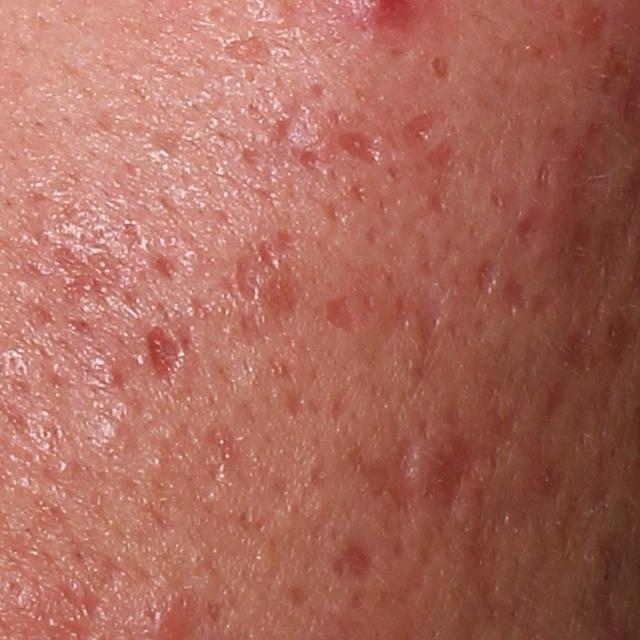atrophic_scar: (234, 232, 314, 341), (349, 431, 423, 516), (422, 433, 487, 521), (270, 83, 330, 177), (46, 246, 126, 303), (322, 287, 376, 335), (143, 324, 182, 390), (395, 105, 445, 156), (336, 128, 390, 173), (483, 399, 519, 466), (215, 33, 279, 70), (332, 537, 377, 581), (512, 203, 548, 248), (148, 122, 191, 157), (152, 246, 189, 286), (474, 252, 501, 298), (532, 160, 555, 196)
